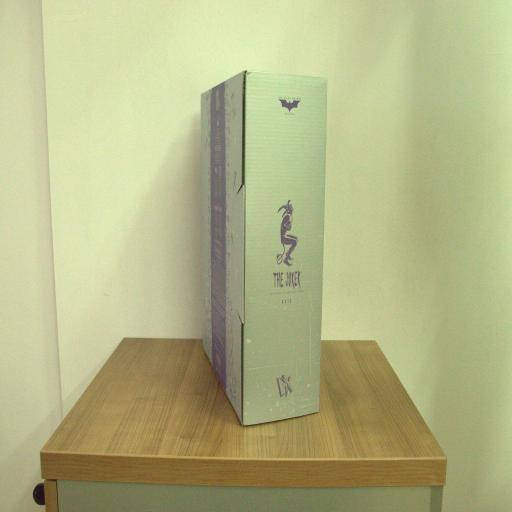Joker: (200, 69, 327, 428)
